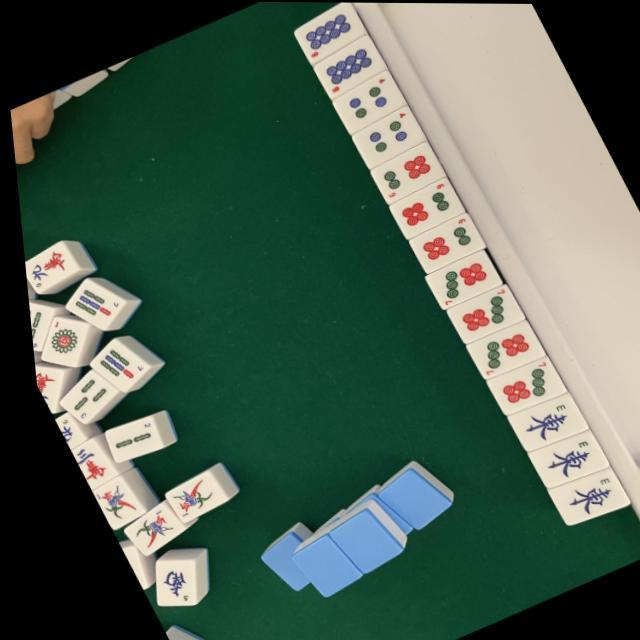hwe: (500, 392, 576, 448), (542, 467, 614, 522), (522, 432, 594, 484)
sd4: (350, 108, 418, 160), (332, 74, 400, 126)
sd6: (404, 213, 478, 267), (366, 146, 439, 198), (388, 180, 458, 230)
sd7: (479, 355, 556, 412), (442, 284, 516, 340), (460, 320, 533, 376), (422, 252, 492, 304)
sd8: (311, 42, 381, 94), (294, 8, 362, 58)
